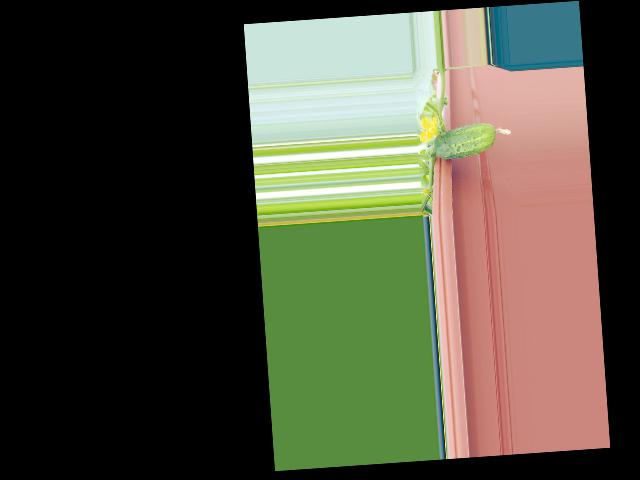cucumber: (432, 120, 513, 159)
